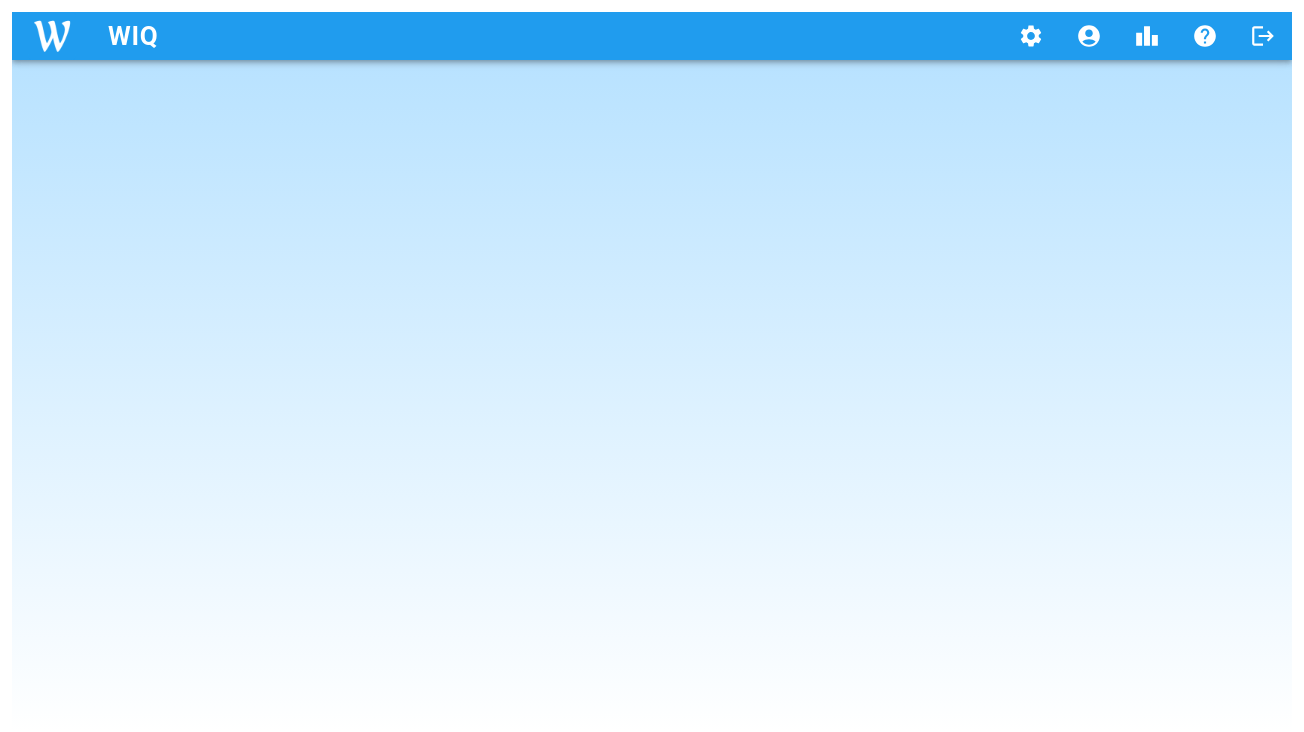
NavigationBar component › should open the info menu when info button is clicked
Click the tab with test id "info-tab" at (1205, 36), box [1176,12,1234,60]
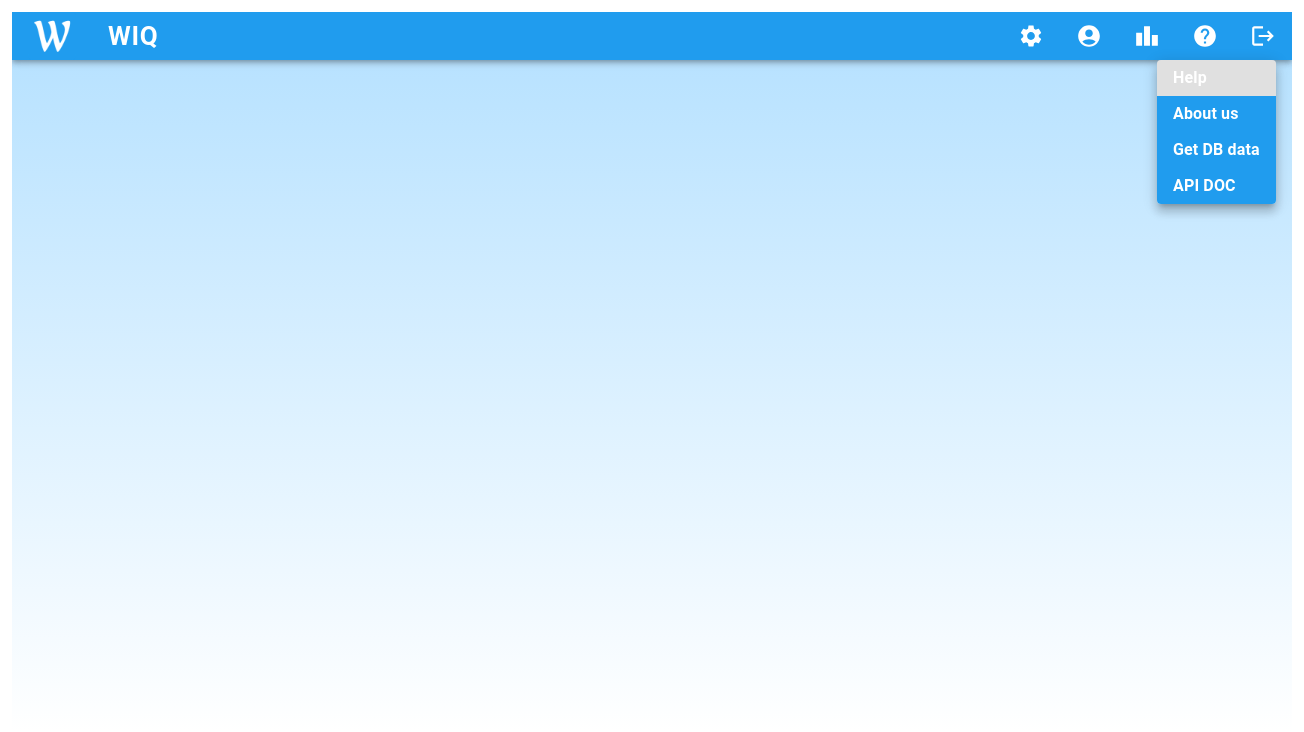
Check: the menu item with test id "help-item" is shown, box [1157,60,1276,96]
Check: the menu item with test id "about-us-item" is shown, box [1157,96,1276,132]
Check: the menu item with test id "get-db-data-item" is shown, box [1157,132,1276,168]
